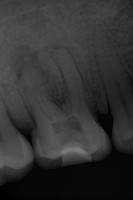Dental Caries: (9, 45, 67, 108)
Furcation Involvement: (46, 39, 74, 65)
